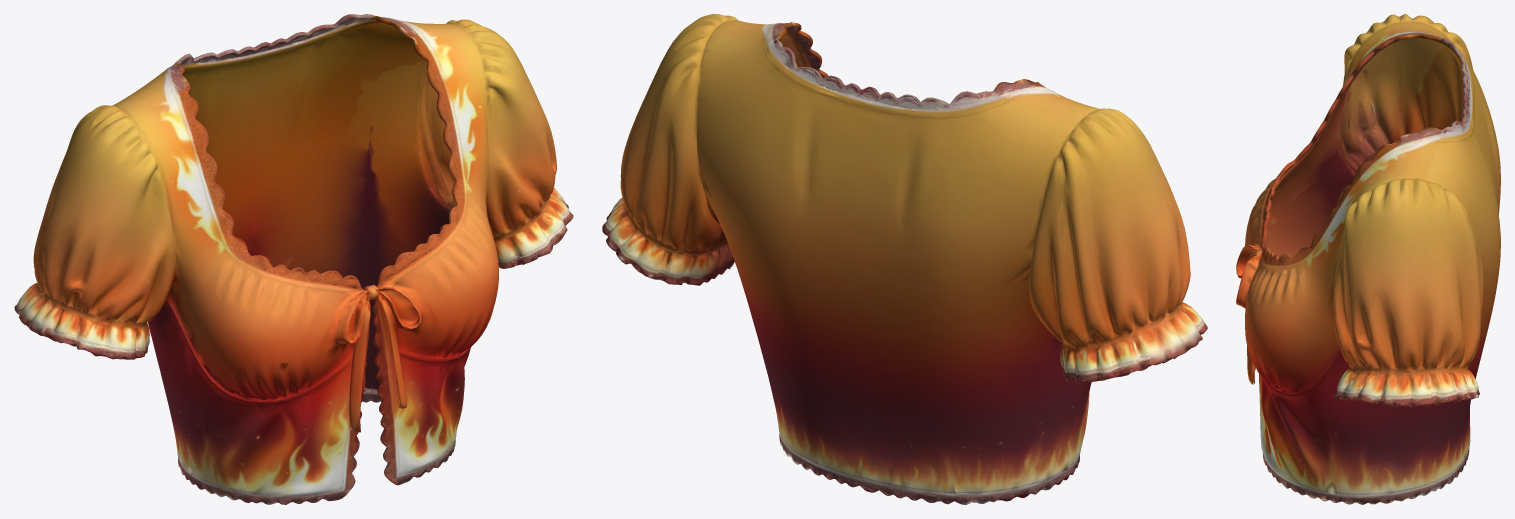
Rendered from DFS -03.glb.
3 views of the same model, side by side, from view 1: azimuth 30°, elevation 25°; view 2: azimuth 150°, elevation 25°; view 3: azimuth 270°, elevation 25° (orthographic). The views are drawn at different scales.
Parts seen in each view (by area): view 1: Mesh_0; view 2: Mesh_0; view 3: Mesh_0.
Part boxes in pixels (box(x1,y1,x2,y2)): Mesh_0: box(14, 14, 573, 504); Mesh_0: box(602, 14, 1207, 504); Mesh_0: box(1236, 14, 1500, 504).
Bounding box in the file's own units: 1.18 × 0.8208 × 0.5376.
Materials: 1 (1 with a texture image).
